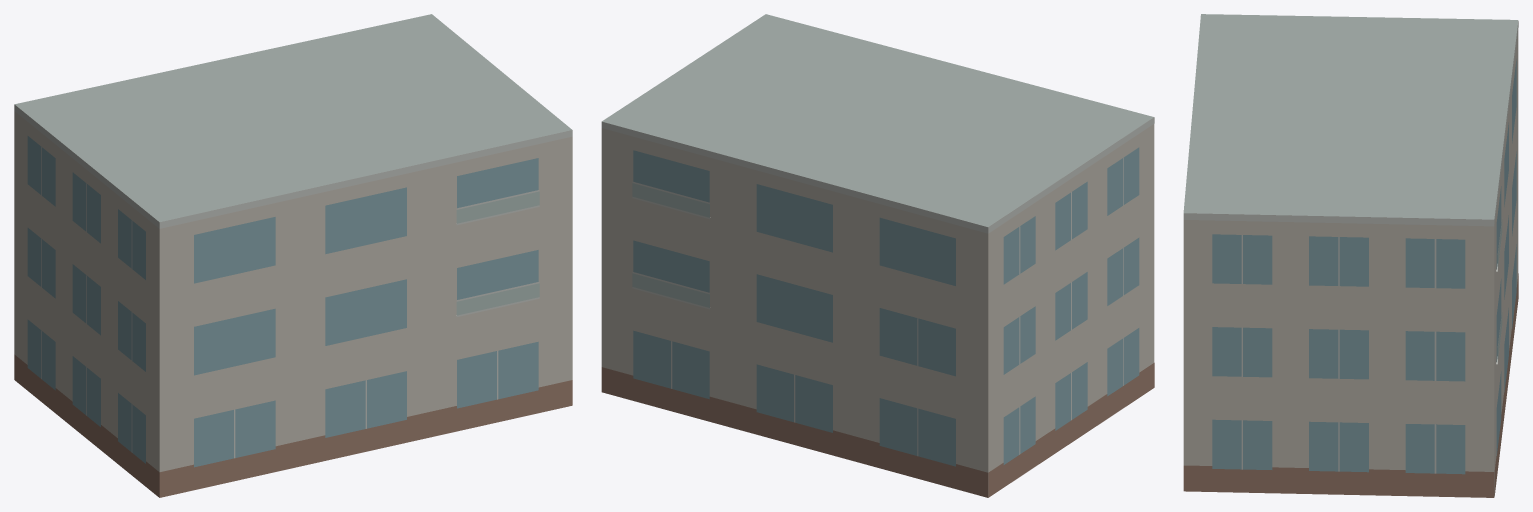
File: survey-upis-32586119.glb
3 renders of one model, left to right at view 1: azimuth 30°, elevation 25°; view 2: azimuth 150°, elevation 25°; view 3: azimuth 270°, elevation 25°, orthographic. The views are drawn at different scales.
Visible parts, largest first — view 1: survey-upis-32586119.tmp; view 2: survey-upis-32586119.tmp; view 3: survey-upis-32586119.tmp.
Part boxes in pixels (x1=…): survey-upis-32586119.tmp: x1=14, y1=14, x2=572, y2=497; survey-upis-32586119.tmp: x1=601, y1=14, x2=1154, y2=497; survey-upis-32586119.tmp: x1=1183, y1=14, x2=1518, y2=497.
Bounding box in the file's own units: 16.19 × 10.2 × 11.14.
